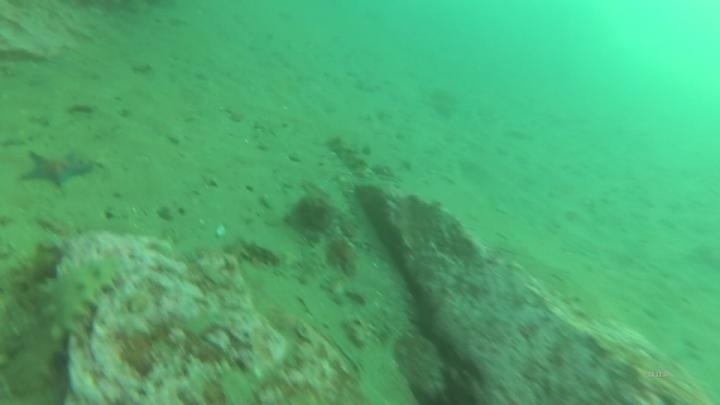holothurian: (12, 249, 129, 395), (1, 239, 66, 394), (328, 133, 372, 179)
starfish: (17, 146, 98, 193)
